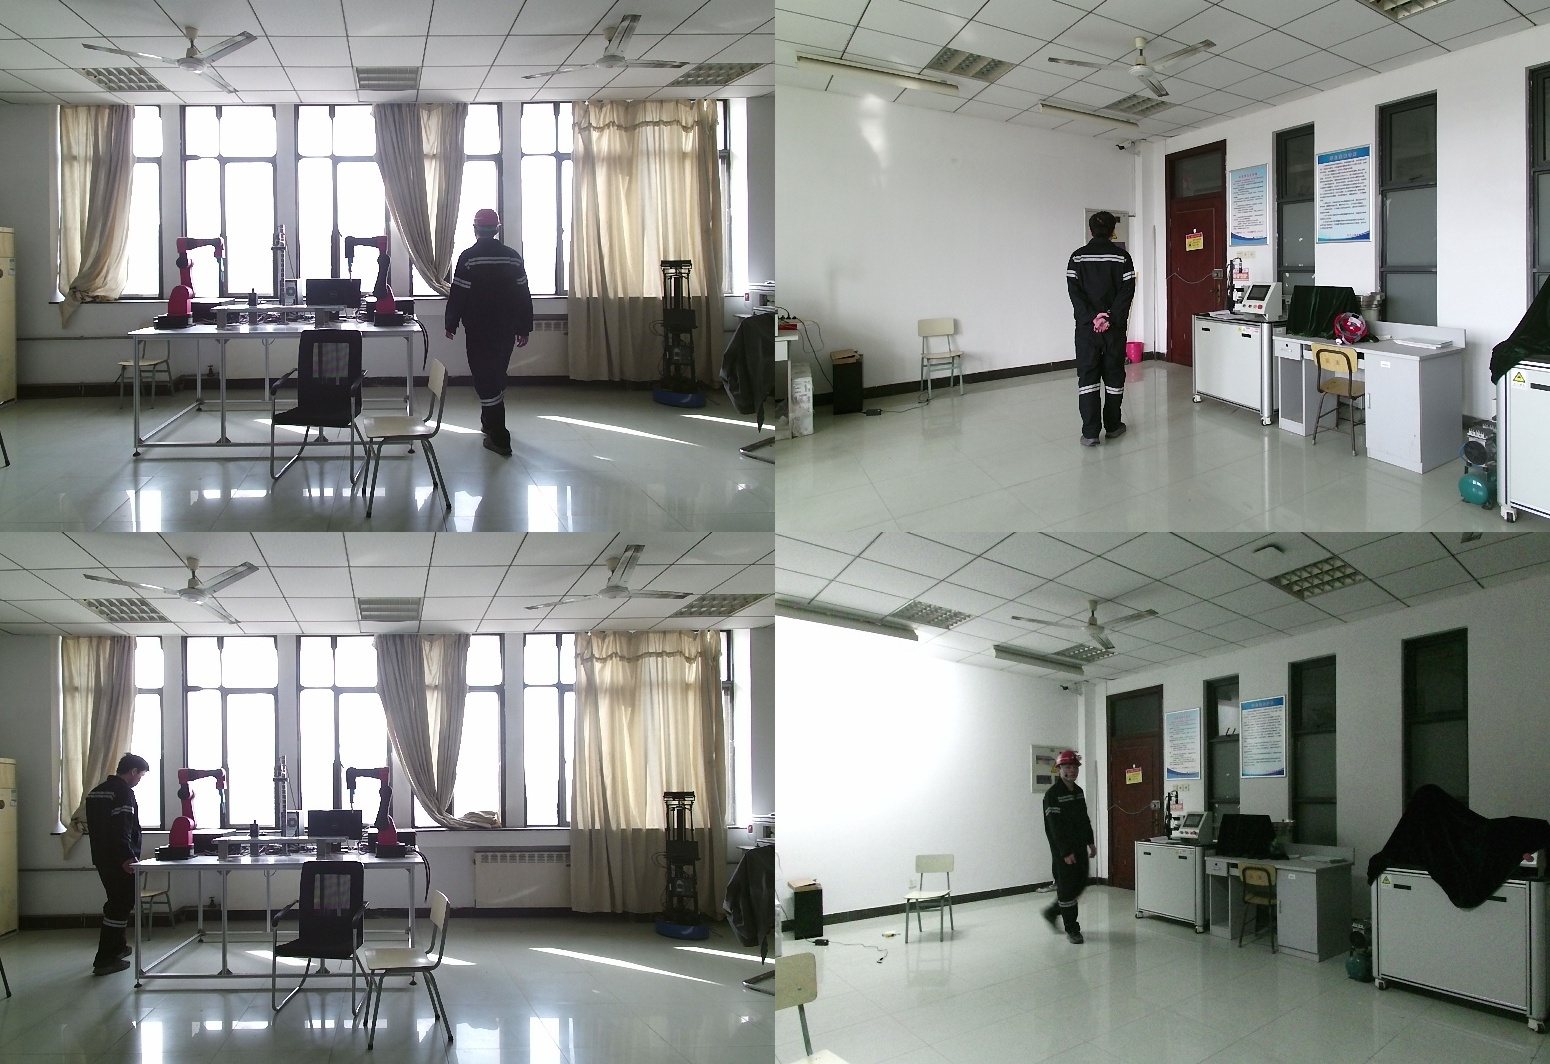person: (449, 206, 541, 457), (1062, 211, 1144, 450), (83, 755, 150, 977), (1032, 752, 1093, 951)
